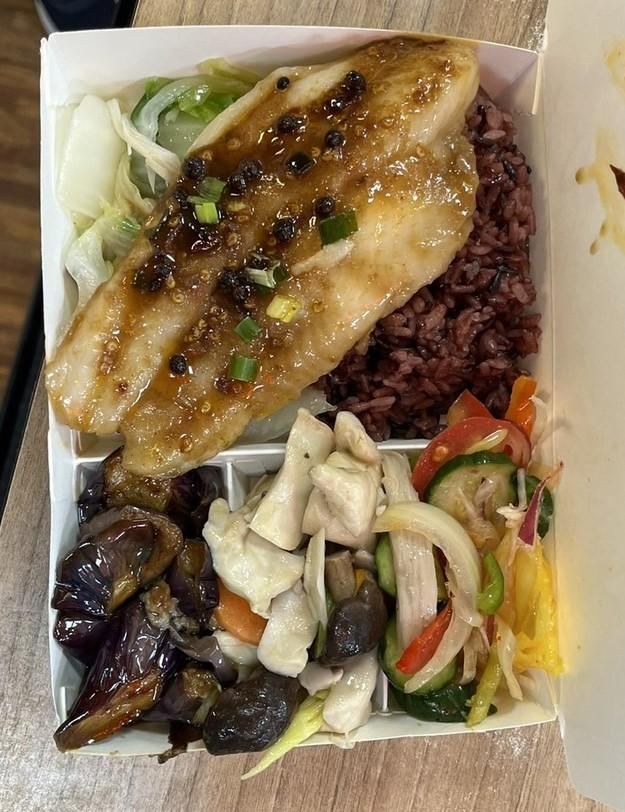big grilled chicken leg: (37, 24, 562, 761)
braised fish: (290, 50, 537, 439)
braised fish fillet: (212, 417, 405, 739), (55, 452, 246, 759), (58, 52, 270, 307), (398, 412, 570, 721)
braised pork ribs: (49, 32, 497, 474)
